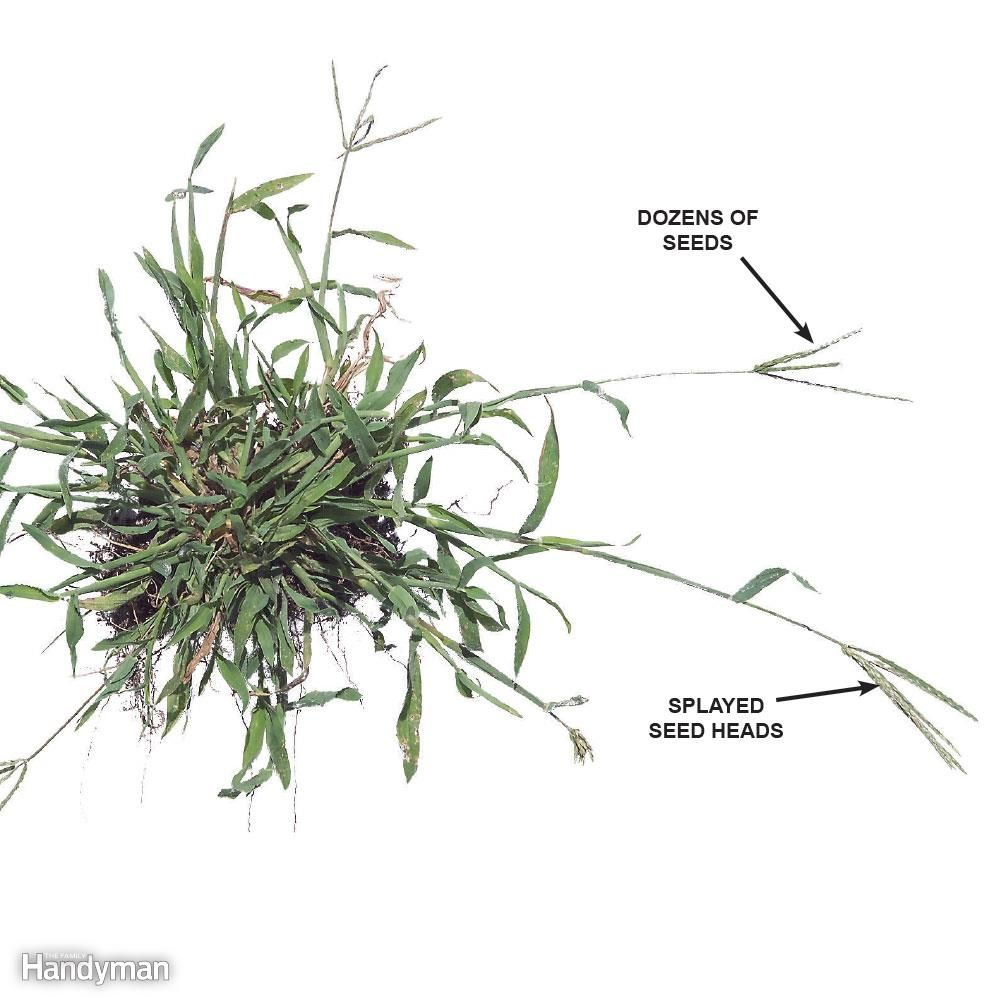crabgrass: (34, 242, 569, 706)
